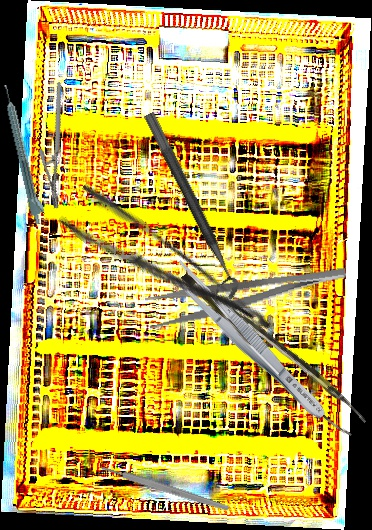Dressing Forceps: (56, 179, 277, 364), (163, 257, 333, 426), (144, 262, 350, 331)
Fixation Ring: (128, 111, 244, 306)
Handpiece: (0, 82, 49, 226)
Needle Holder: (15, 81, 101, 211)
Scalpel Handle: (100, 463, 230, 513)
Tissue Forceps: (180, 251, 367, 448)
